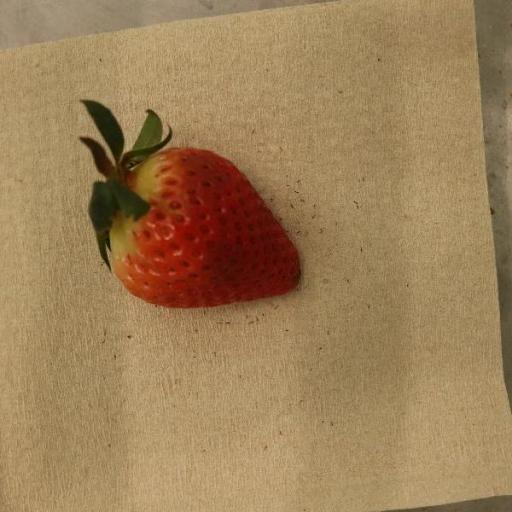Strawberry: (79, 100, 302, 310)
